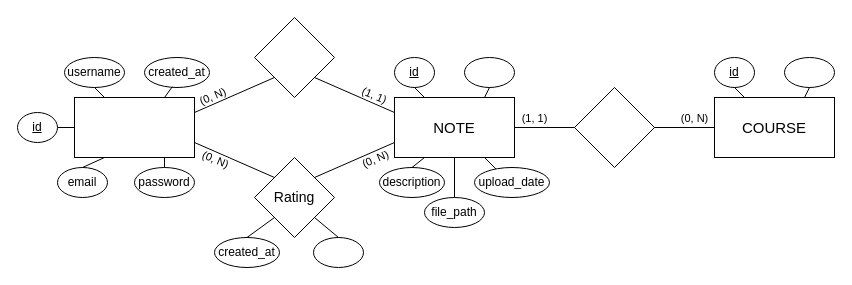
Some shapes in this 852 by 285 pixel diagram are drawn without their labels. Each missing label, with the box of its shape:
Belongs to: (574, 86, 654, 168)
name: (784, 56, 834, 88)
title: (464, 56, 514, 88)
Uploads: (254, 16, 334, 98)
USER: (74, 96, 194, 158)
value: (312, 236, 364, 268)
